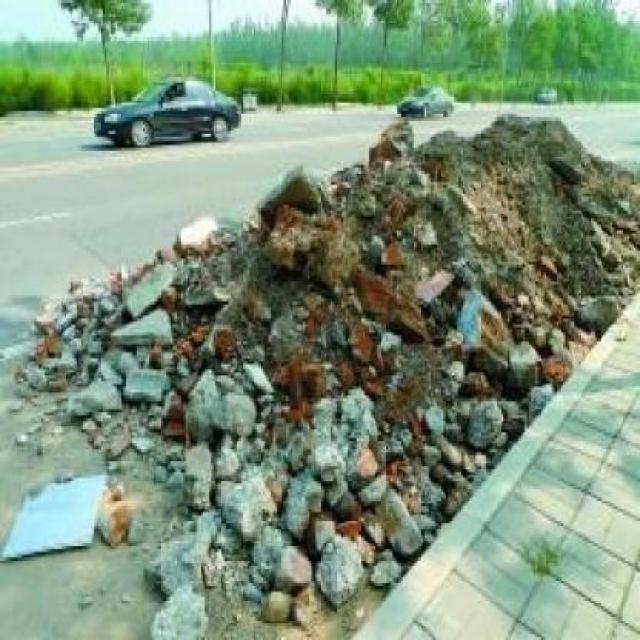garbage: (44, 115, 639, 631)
